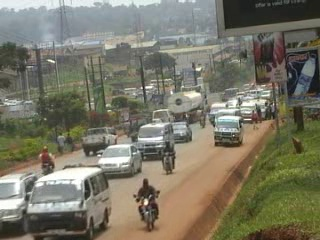Car: (0, 170, 41, 235), (92, 140, 144, 178), (129, 113, 153, 141), (169, 119, 193, 145), (150, 115, 165, 125)
Motorcycle: (132, 175, 164, 230), (159, 137, 178, 175), (37, 144, 57, 177), (196, 108, 208, 129), (121, 116, 132, 138)
